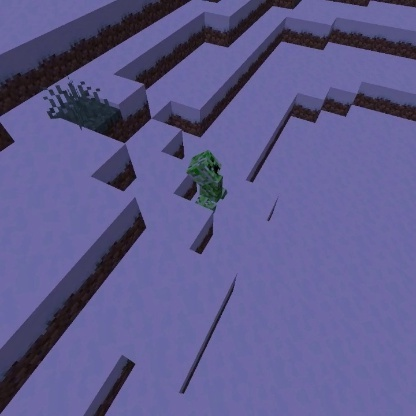creeper: (184, 148, 231, 213)
